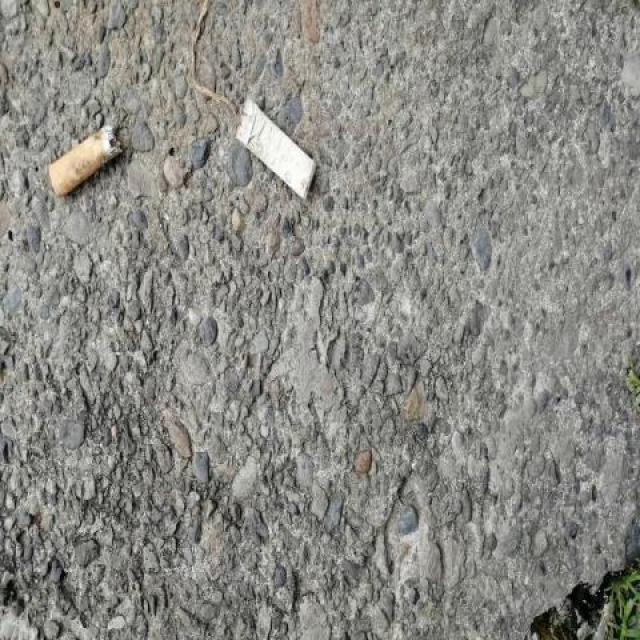non-organic waste: (230, 92, 321, 205), (44, 119, 124, 201)
